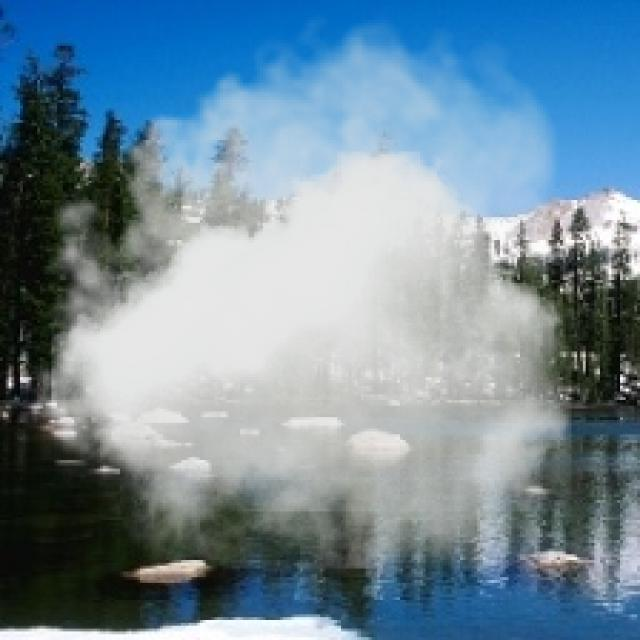smoke: (17, 3, 572, 568)
